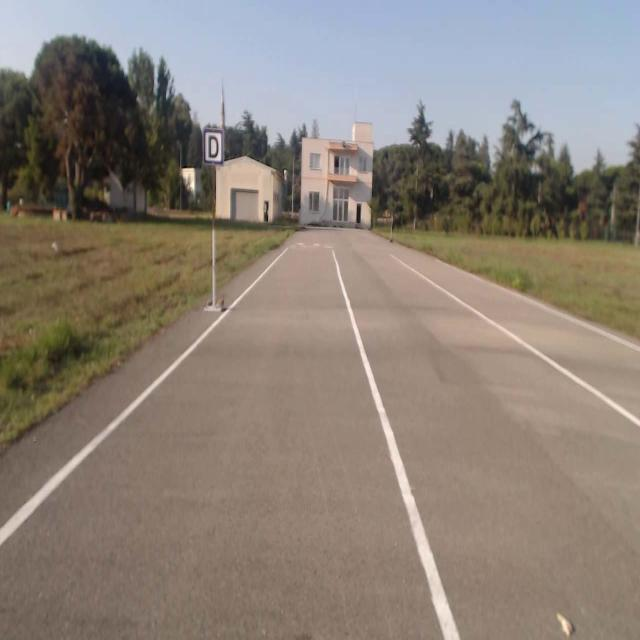durak: (202, 128, 224, 165)
